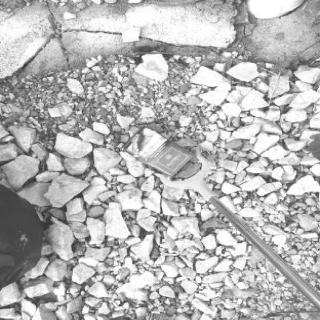objects: (122, 126, 193, 176)
